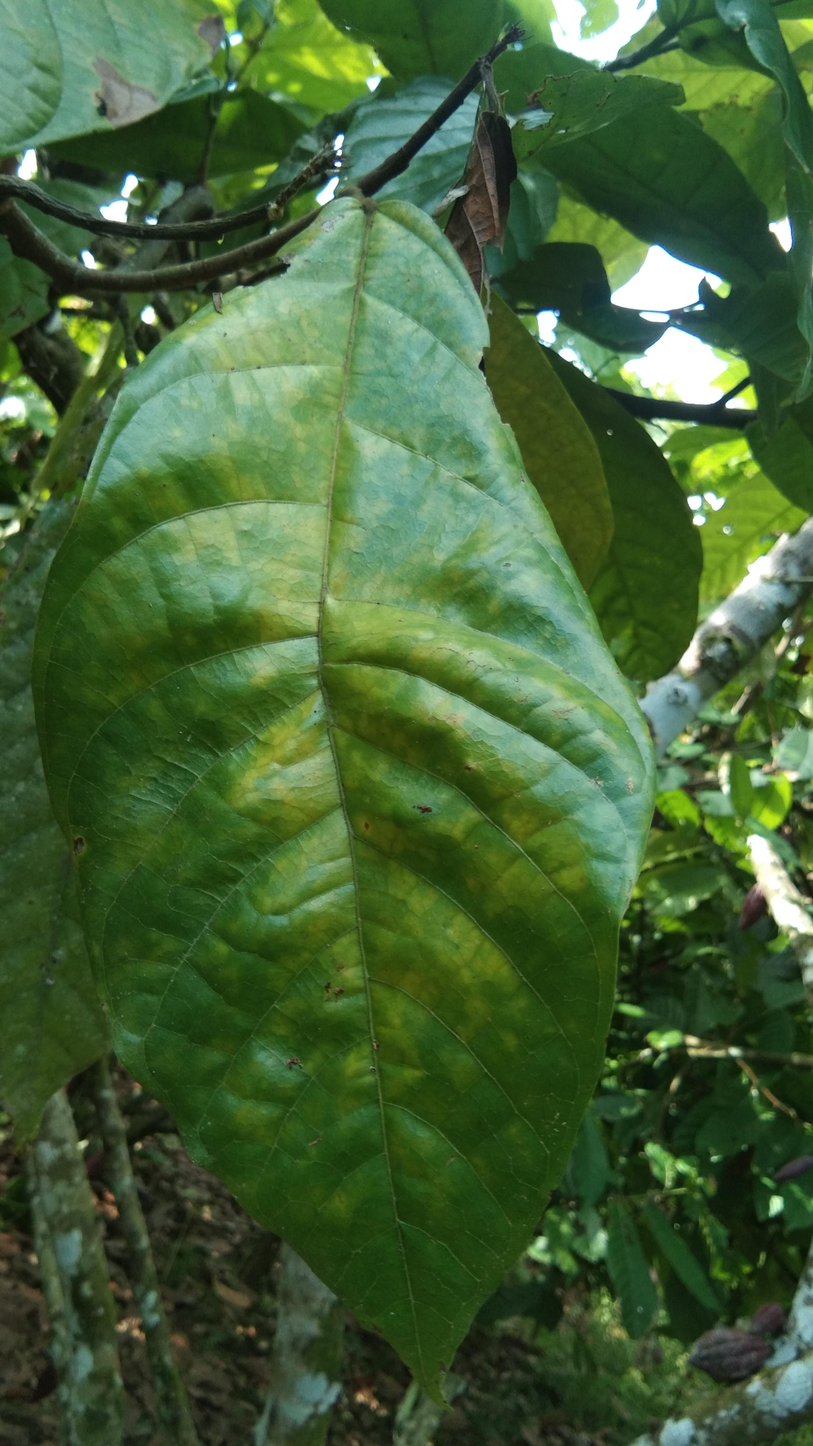deficiencia_potasio: (38, 181, 643, 1404)
